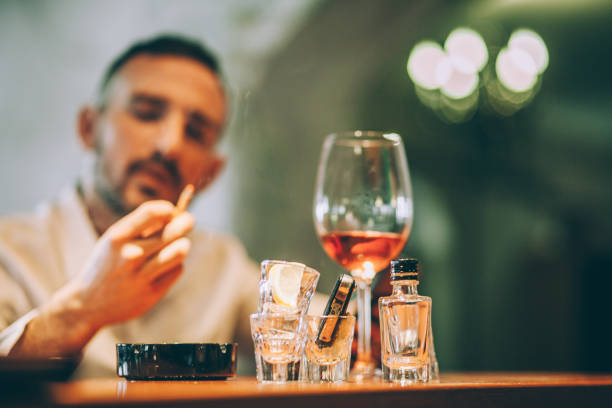alcohol: (312, 128, 414, 386), (378, 261, 440, 386), (297, 314, 356, 388), (251, 315, 304, 385), (257, 258, 318, 315)
cigarette: (174, 183, 196, 218)
